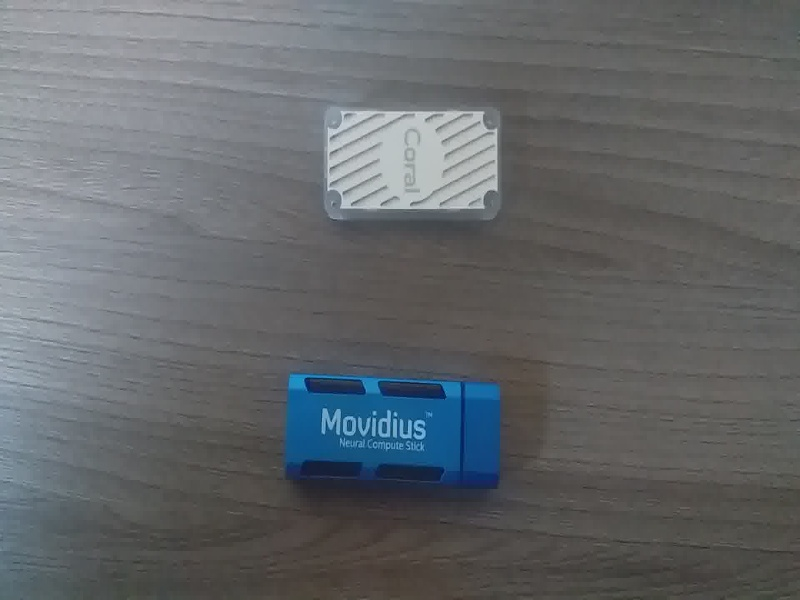coral: (316, 97, 527, 241)
movidius: (277, 367, 508, 497)
